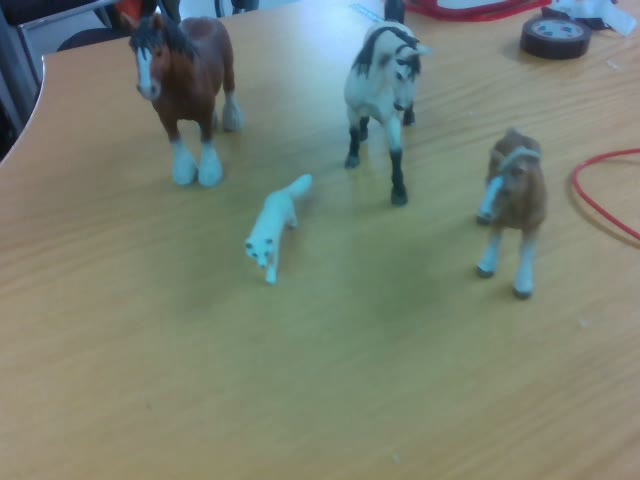toy: (116, 8, 242, 186), (342, 1, 432, 206), (473, 121, 548, 299), (244, 174, 312, 286)
